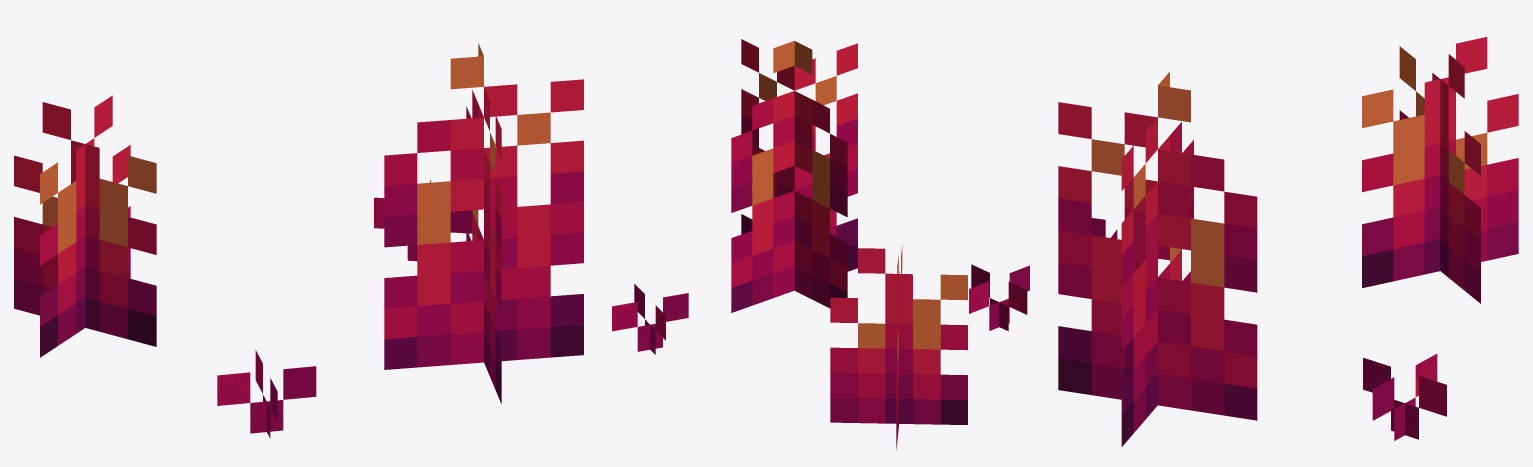
Rendered from crop_crimsoncrest_stage1.obj.
The picture shows the model from 3 angles, left to right: view 1: azimuth 30°, elevation 25°; view 2: azimuth 150°, elevation 25°; view 3: azimuth 270°, elevation 25°; orthographic projection. The views are drawn at different scales.
Parts seen in each view (by area): view 1: cube_1, cube_3, cube_4, cube_2, cube_7, cube_5, cube_8; view 2: cube_4, cube_2, cube_1, cube_6, cube_8, cube_7, cube_5, cube_3; view 3: cube_2, cube_3, cube_1, cube_4, cube_6, cube_5.
Boxes of the visible parts, bbox=[...] form: cube_1: bbox=[384, 56, 583, 369]; cube_3: bbox=[14, 102, 156, 346]; cube_4: bbox=[40, 95, 130, 357]; cube_2: bbox=[466, 43, 501, 403]; cube_7: bbox=[217, 366, 316, 433]; cube_5: bbox=[374, 197, 472, 261]; cube_8: bbox=[255, 350, 277, 438]; cube_4: bbox=[830, 248, 967, 424]; cube_2: bbox=[731, 41, 857, 312]; cube_1: bbox=[741, 39, 847, 308]; cube_6: bbox=[612, 293, 688, 351]; cube_8: bbox=[969, 265, 1029, 330]; cube_7: bbox=[971, 264, 1027, 331]; cube_5: bbox=[634, 284, 665, 354]; cube_3: bbox=[896, 245, 902, 449]; cube_2: bbox=[1058, 85, 1257, 420]; cube_3: bbox=[1362, 37, 1518, 288]; cube_1: bbox=[1121, 72, 1193, 446]; cube_4: bbox=[1399, 46, 1480, 303]; cube_6: bbox=[1363, 357, 1446, 439]; cube_5: bbox=[1372, 354, 1437, 440].
Size of the model in its own units: 0.9005 by 0.625 by 0.8148.
